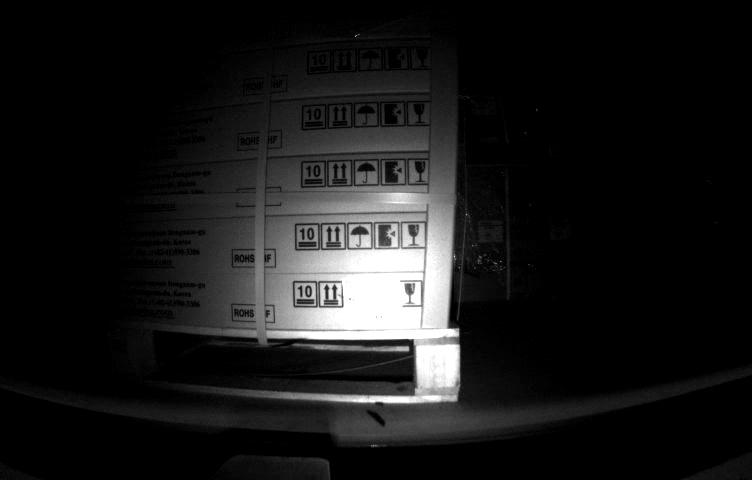True Barcode: (343, 273, 402, 327)
